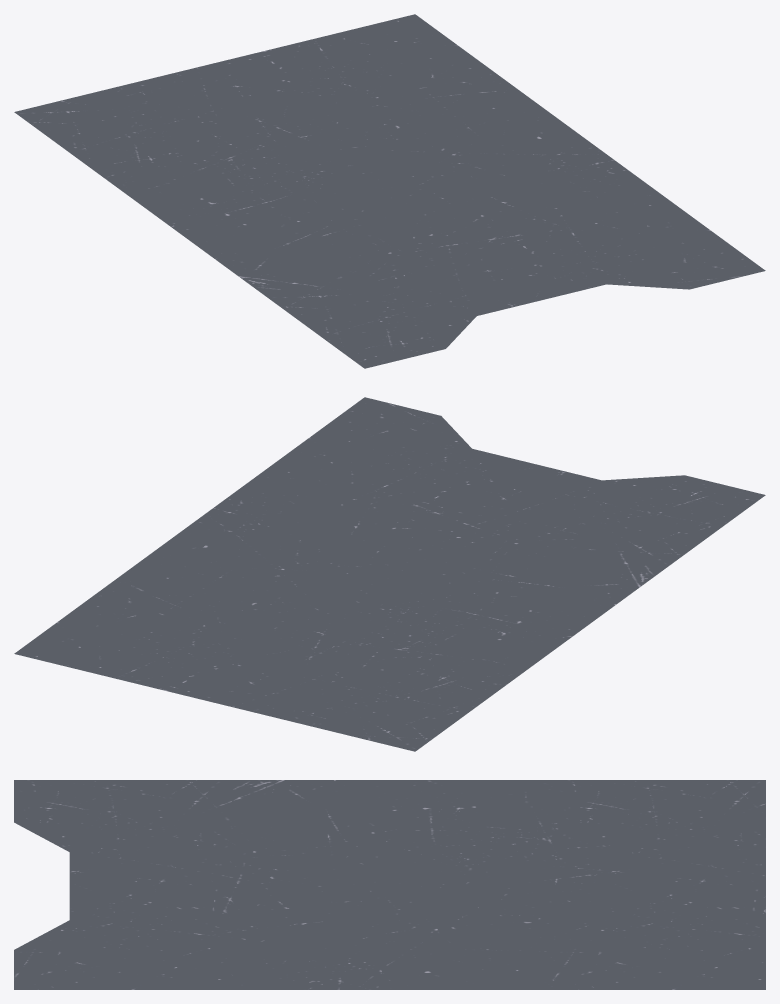
The model's file is arena_floor.fbx.
The picture shows the model from 3 angles, top to bottom: view 1: azimuth 30°, elevation 25°; view 2: azimuth 150°, elevation 25°; view 3: azimuth 270°, elevation 25°; orthographic projection. The views are drawn at different scales.
Parts seen in each view (by area): view 1: Plane.025; view 2: Plane.025; view 3: Plane.025.
Part boxes in pixels (x1,y1,x2,y2): Plane.025: (14, 14, 765, 368); Plane.025: (14, 397, 765, 751); Plane.025: (14, 780, 765, 989).
Bounding box in the file's own units: 2784 × 0 × 4214.
